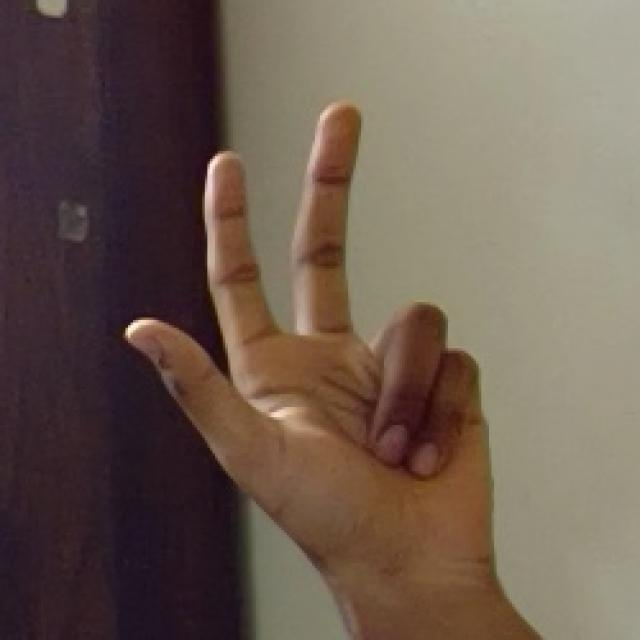Numeric-3: (123, 96, 488, 578)
